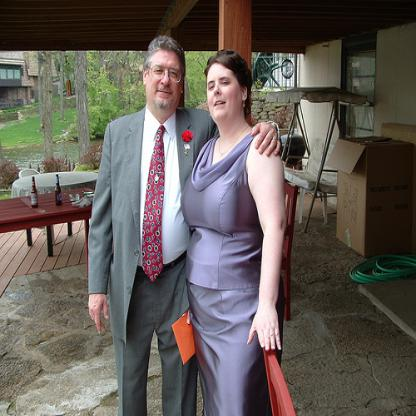bottle: (29, 176, 39, 207), (54, 176, 62, 206)
